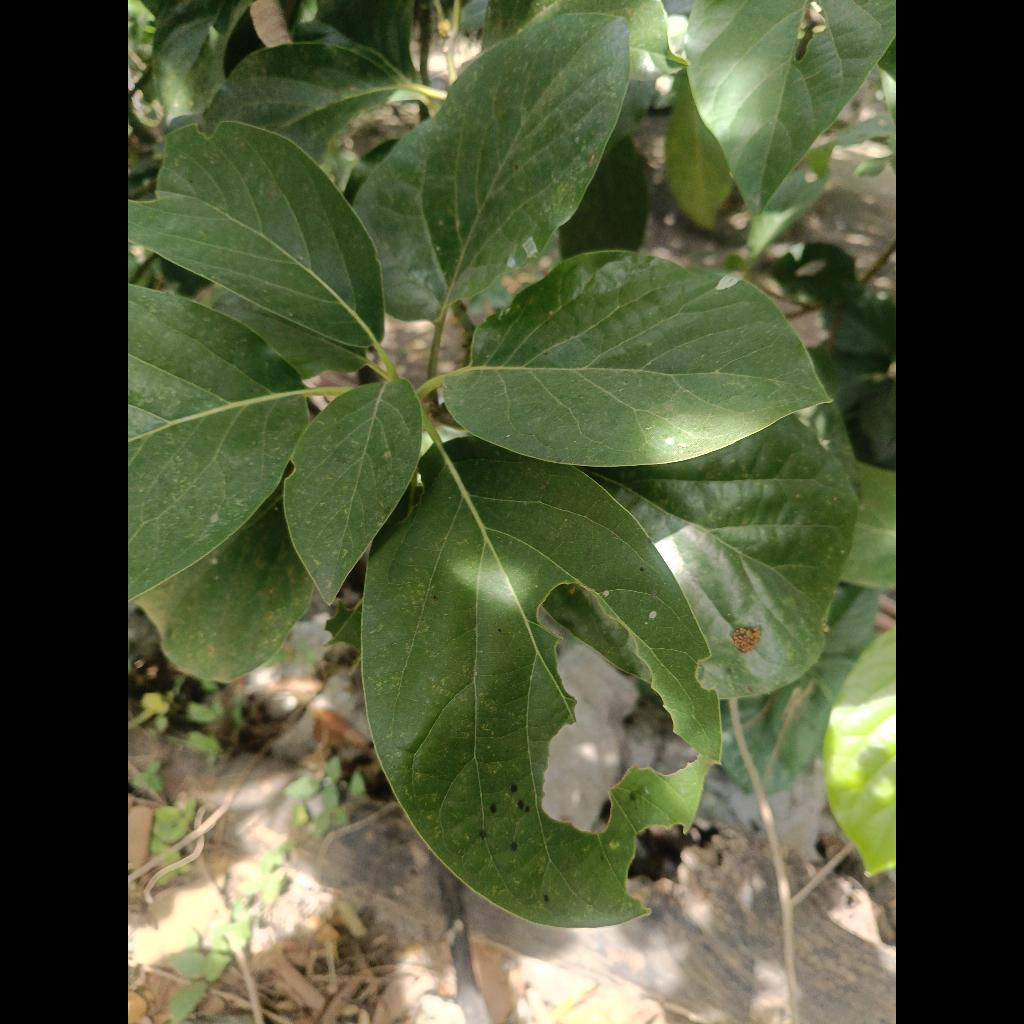plaga: (361, 438, 720, 927), (591, 415, 856, 698)
